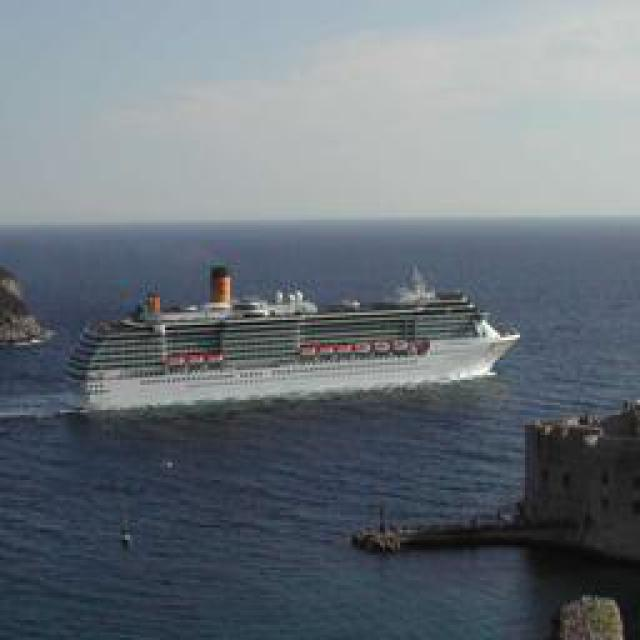Ship: (59, 269, 519, 402)
